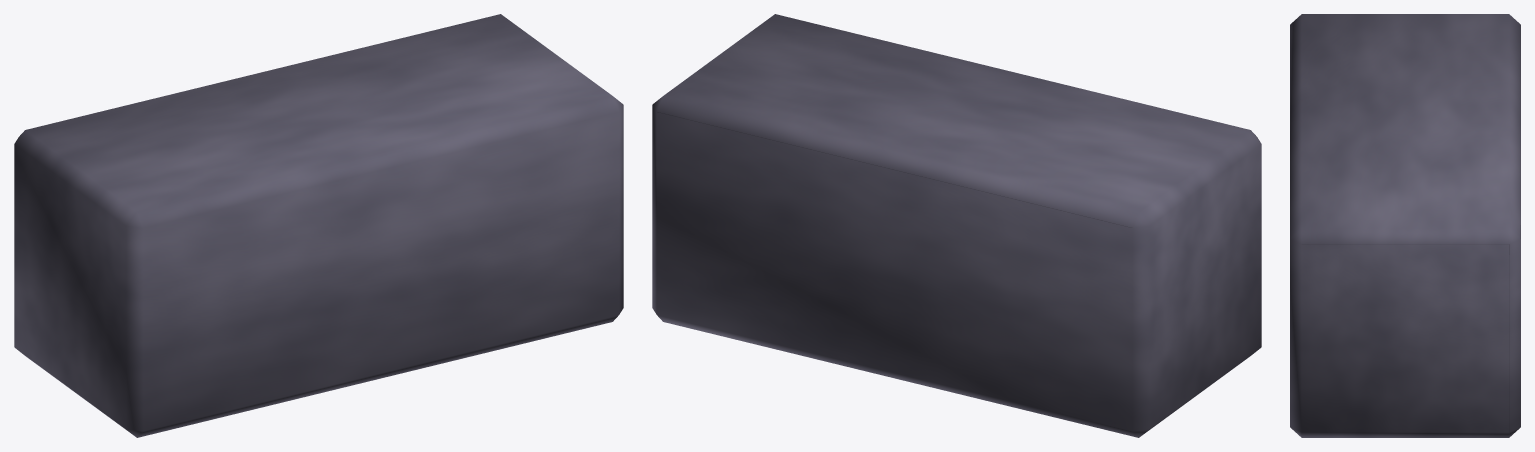
Rendered from StoneWall.glb.
3 renders of one model, left to right at view 1: azimuth 30°, elevation 25°; view 2: azimuth 150°, elevation 25°; view 3: azimuth 270°, elevation 25°, orthographic. The views are drawn at different scales.
Parts seen in each view (by area): view 1: StoneWall; view 2: StoneWall; view 3: StoneWall.
Part boxes in pixels (<box>): StoneWall: <box>14,14,623,437</box>; StoneWall: <box>652,14,1261,437</box>; StoneWall: <box>1290,14,1520,437</box>.
Bounding box in the file's own units: 3.63 × 1.57 × 1.57.
Materials: 1 (1 with a texture image).
